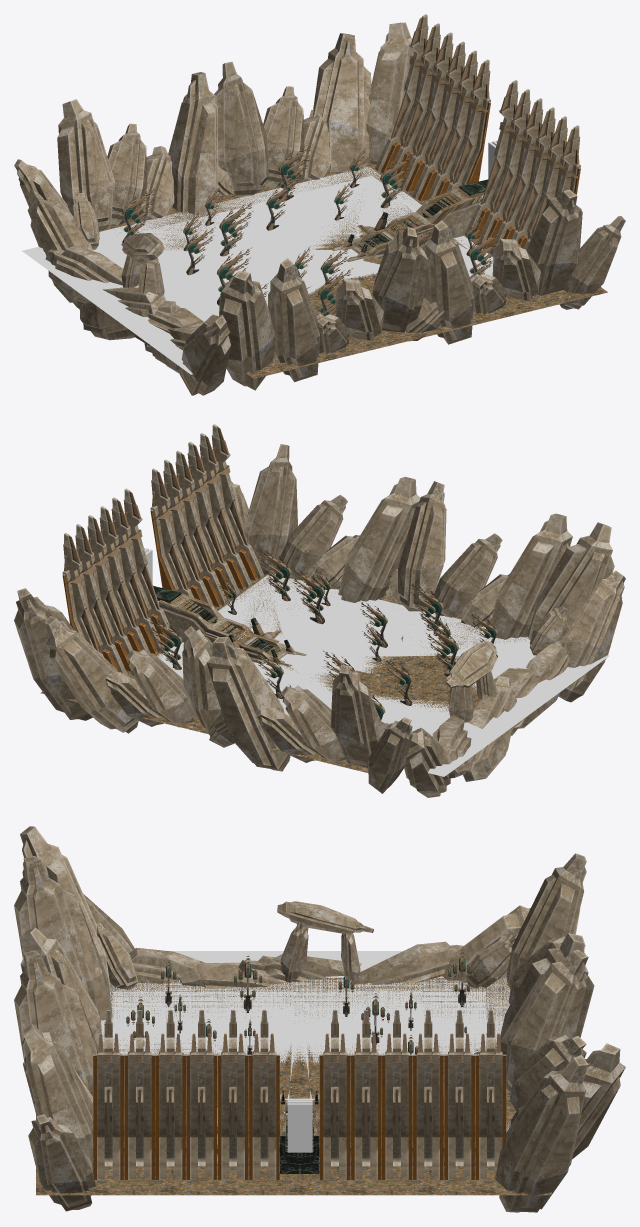
3 views of the same model, one above another, from view 1: azimuth 30°, elevation 25°; view 2: azimuth 150°, elevation 25°; view 3: azimuth 270°, elevation 25° (orthographic). The views are drawn at different scales.
Parts seen in each view (by area): view 1: emisor_hierba, area_mascara_alada, Cube.018, Cube.023, Cube.013, Cube.020, Cube.033, Cube.024, Cube.026, Cube.022, Cube.025, Cube.017 (+49 smaller); view 2: emisor_hierba, Cube.023, Cube.026, area_mascara_alada, Cube.024, Cube.018, Cube.025, Cube.022, Cube.033, Cube.038, Cube.017, Cube.020 (+42 smaller); view 3: emisor_hierba, area_mascara_alada, Cube.017, Cube.024, Cube.026, Cube.013, Cube.025, Cube.002, Cube.005, Cube.007, Cube.008, Cube.010 (+40 smaller).
Part boxes in pixels (x1,y1,x2,y2): emisor_hierba: (22,166,493,374); area_mascara_alada: (109,176,492,321); Cube.018: (313,33,371,172); Cube.023: (168,72,218,214); Cube.013: (214,61,268,195); Cube.020: (57,99,114,231); Cube.033: (219,271,274,390); Cube.024: (268,258,320,382); Cube.026: (423,220,474,344); Cube.022: (372,227,428,332); Cube.025: (526,189,582,295); Cube.017: (366,22,414,164); emisor_hierba: (157,574,609,776); Cube.023: (206,636,290,771); Cube.026: (338,476,420,602); area_mascara_alada: (134,582,530,730); Cube.024: (490,513,572,639); Cube.018: (44,616,138,733); Cube.025: (243,444,297,574); Cube.022: (398,481,446,611); Cube.033: (527,522,614,640); Cube.038: (558,570,625,702); Cube.017: (14,588,92,720); Cube.020: (330,664,384,767); emisor_hierba: (101,951,510,1163); area_mascara_alada: (113,991,486,1158); Cube.017: (495,1055,588,1212); Cube.024: (14,855,112,1021); Cube.026: (14,950,98,1096); Cube.013: (506,950,588,1093); Cube.025: (22,1023,92,1170); Cube.002: (248,1009,279,1180); Cube.005: (155,1009,186,1180); Cube.007: (444,1009,475,1180); Cube.008: (412,1009,443,1180); Cube.010: (93,1009,124,1180).
Size of what is drawn, in the model's own units: 56.52 by 25.4 by 56.96.
Materials: 5 (5 with a texture image).
